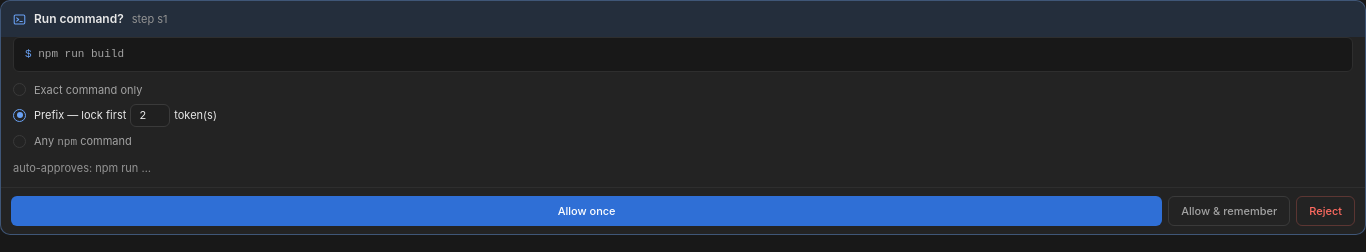
Scenario: CommandGate — one-shot after any action › all three action buttons are gone after Reject
This screenshot has width=1366, height=252.
Click the button "Reject": coordinates (1326, 211) [1296, 196, 1355, 226]
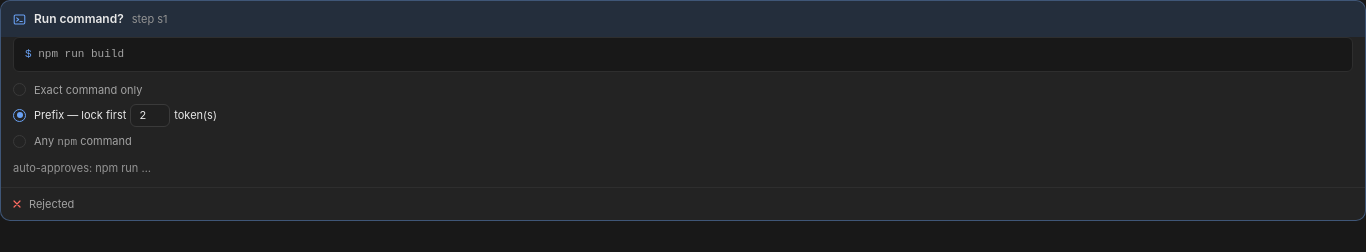
Now the button "Allow once" is gone
Now the button "Allow & remember" is gone
